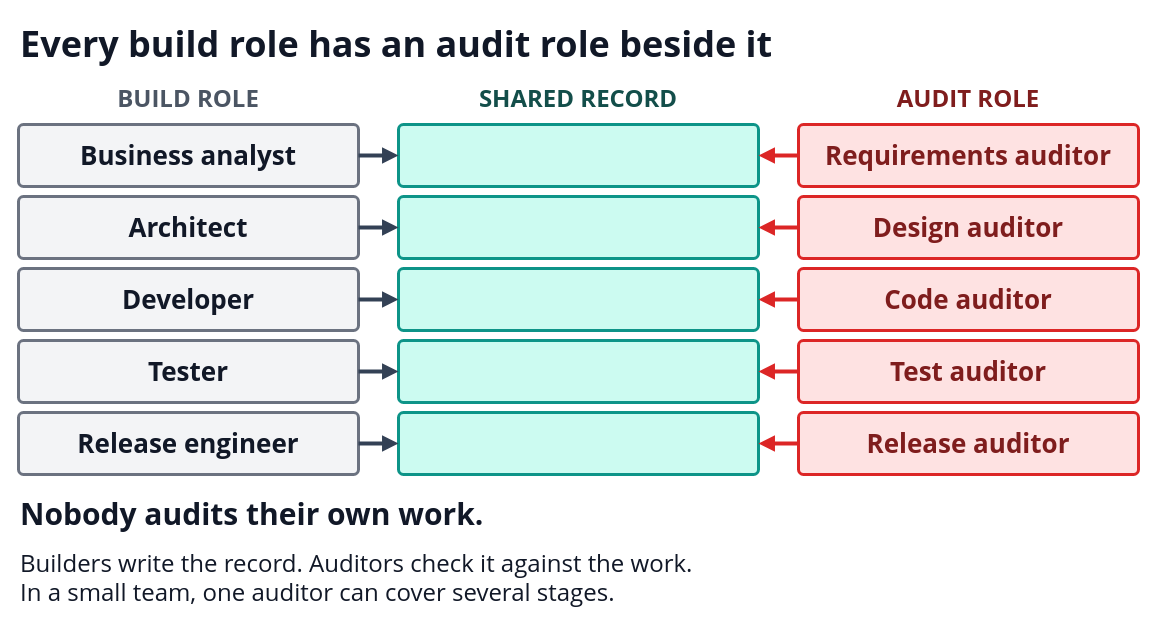
Some shapes in this 1157 by 632 pixel diagram are drawn without their labels. Each missing label, with the centre of its shape:
"Code + record" goes at pixel 578 299.
"Decision record + diagram" goes at pixel 578 227.
"Release record" goes at pixel 578 443.
"Requirements" goes at pixel 578 155.
"Tests + results" goes at pixel 578 371.
